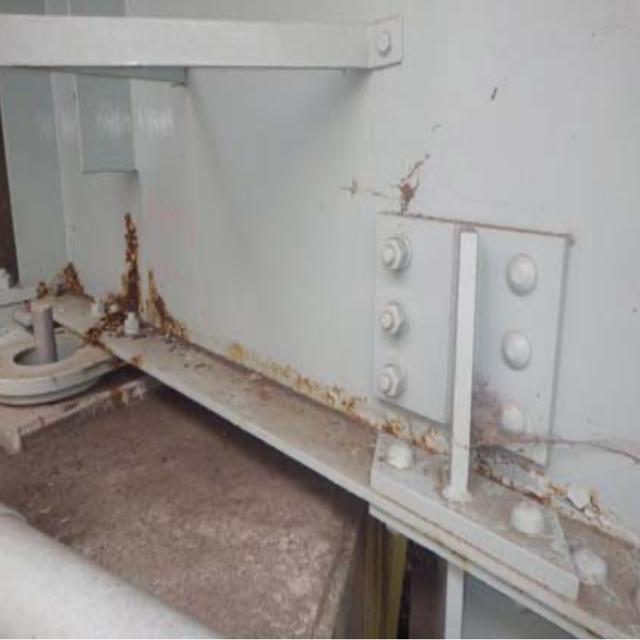corrosion: (43, 212, 271, 404)
